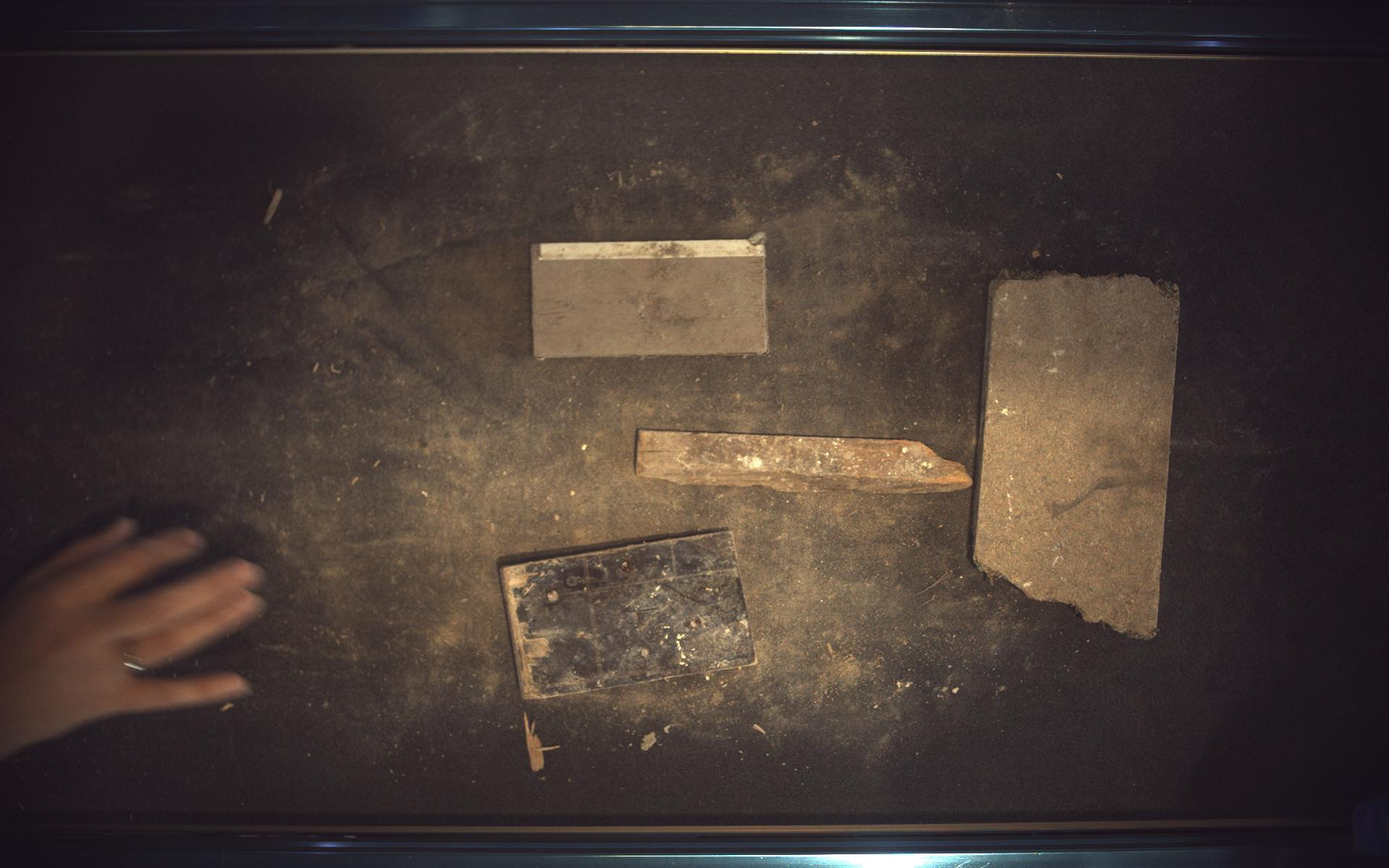wood: (976, 274, 1181, 639), (500, 529, 757, 701), (533, 234, 768, 358), (637, 430, 974, 493)
